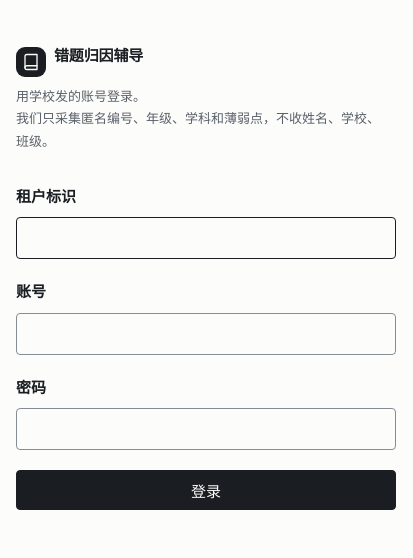
Test case: 登录页：错误反馈诚实化 › 全局失败（如 500）不把三个输入框全判为非法
In the field labelled "租户标识": (206, 238) top-left (16, 217), bottom-right (396, 259), type "t"
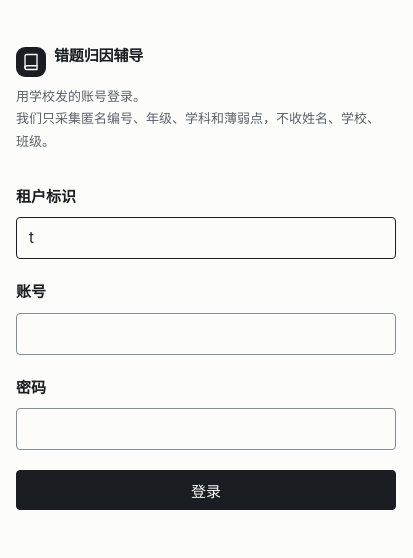
In the field labelled "账号": (206, 334) top-left (16, 313), bottom-right (396, 355), type "u"
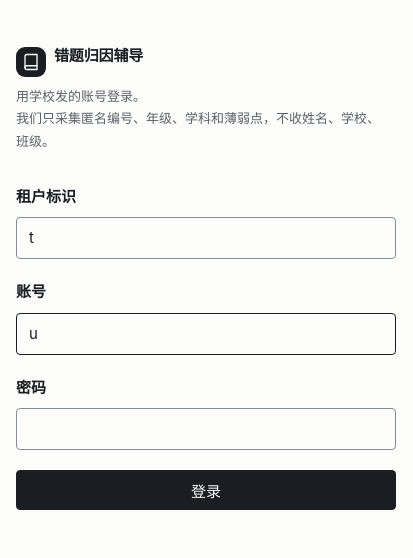
In the password field labelled "密码": (206, 429) top-left (16, 408), bottom-right (396, 450), type "p"
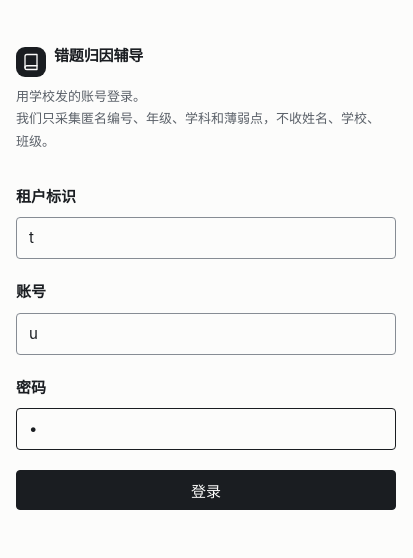
Click the button "登录": (206, 490) top-left (16, 470), bottom-right (396, 510)
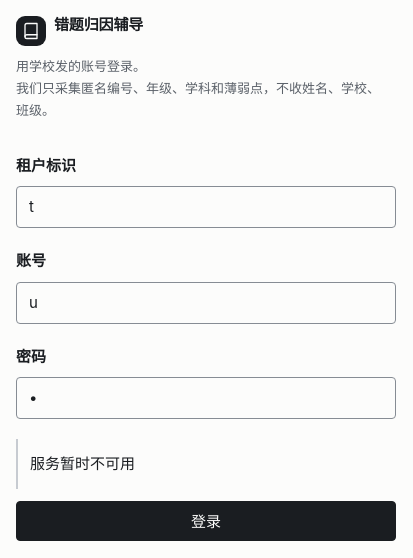
Result: the message "服务暂时不可用" is shown at top-left (16, 439), bottom-right (396, 489)
